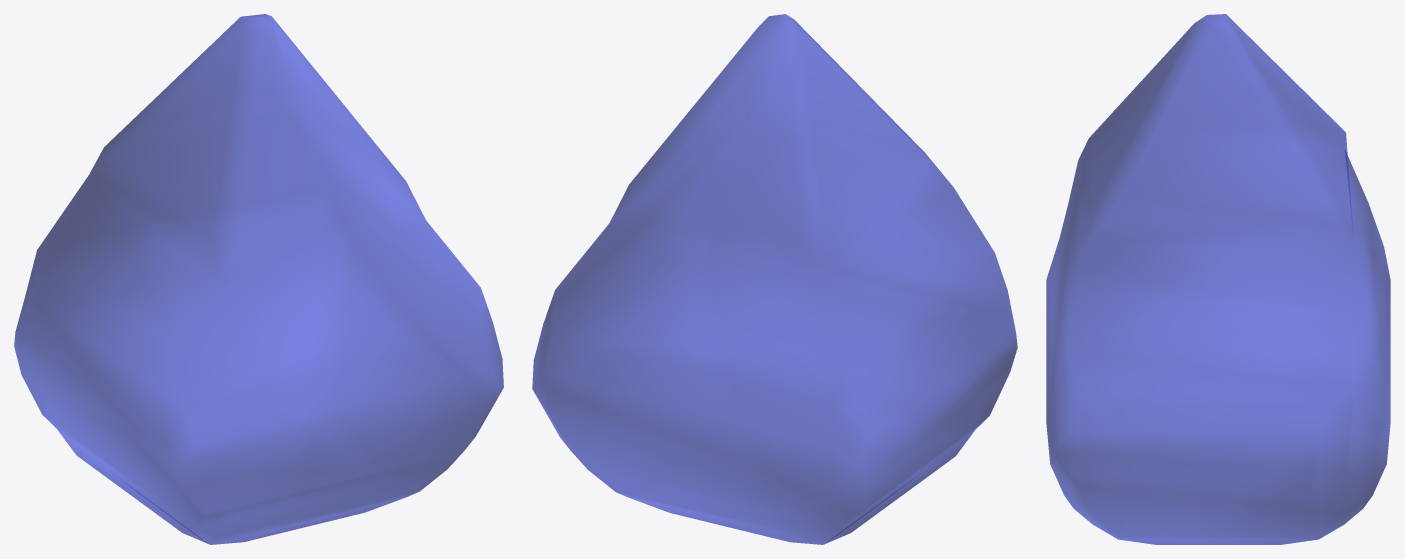
Rendered from WaterDroplet.fbx.
3 views of the same model, side by side, from view 1: azimuth 30°, elevation 25°; view 2: azimuth 150°, elevation 25°; view 3: azimuth 270°, elevation 25° (orthographic).
Parts seen in each view (by area): view 1: Droplet; view 2: Droplet; view 3: Droplet.
Part boxes in pixels (<box>): Droplet: <box>14,14,503,544</box>; Droplet: <box>532,14,1017,544</box>; Droplet: <box>1046,14,1390,544</box>.
Size of the model in its own units: 41.08 by 59.46 by 36.15.
